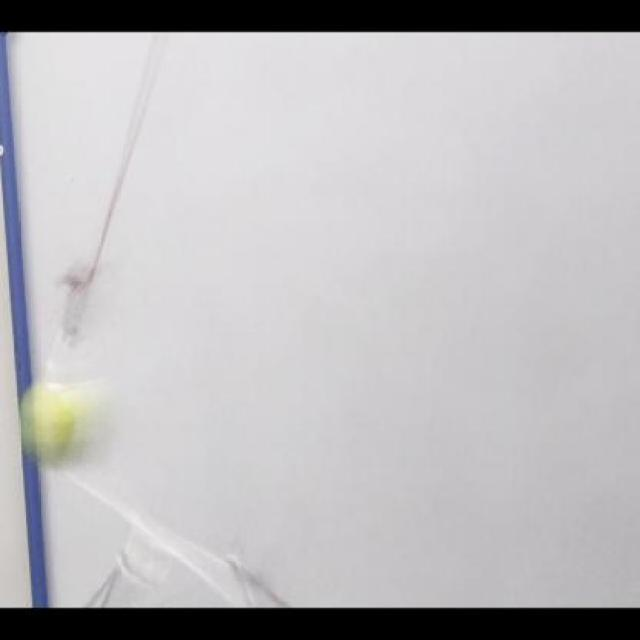baseball: (19, 373, 95, 469)
